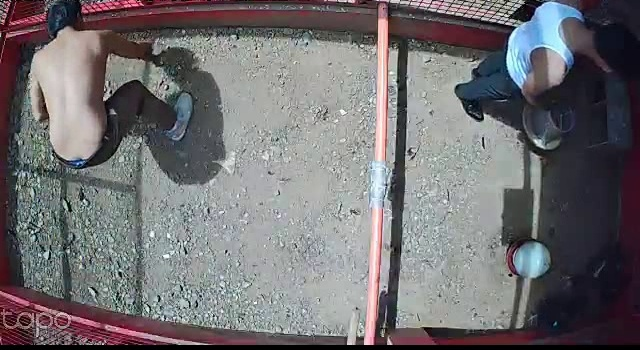Drinker: (505, 235, 554, 282)
Feeder: (522, 93, 578, 151)
